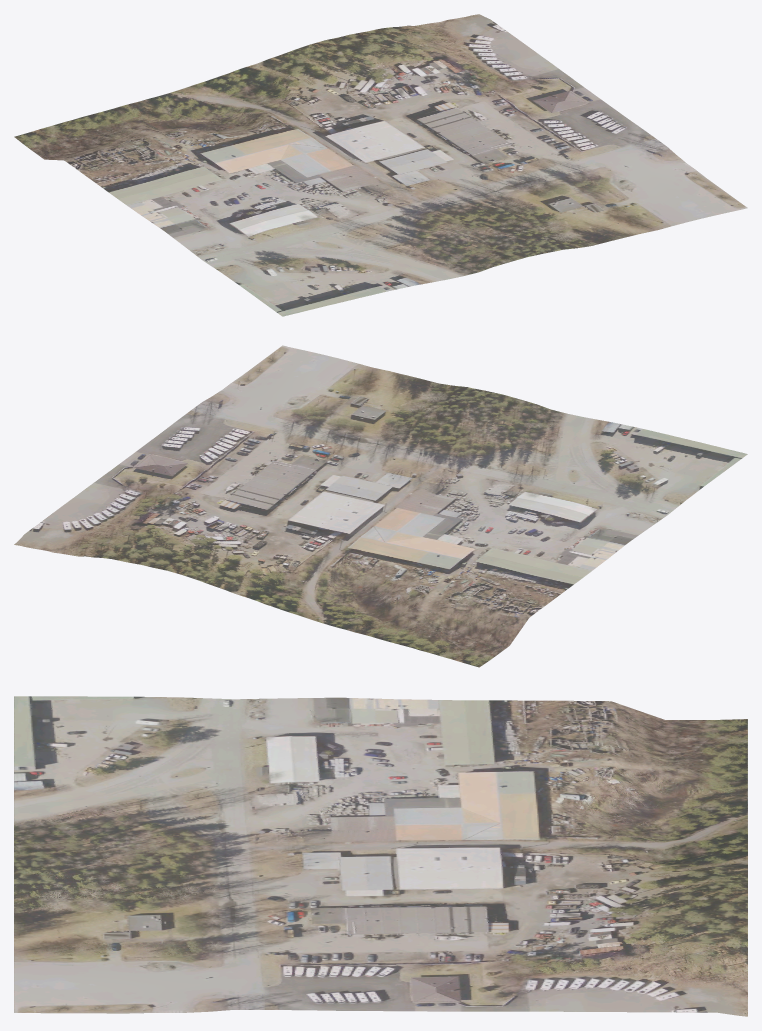
Rendered from CM_Terrain_24492916_6816722.fbx.
3 views of the same model, one above another, from view 1: azimuth 30°, elevation 25°; view 2: azimuth 150°, elevation 25°; view 3: azimuth 270°, elevation 25° (orthographic). The views are drawn at different scales.
Visible parts, largest first — view 1: CM_Terrain_24492916_6816722_LOD0; view 2: CM_Terrain_24492916_6816722_LOD0; view 3: CM_Terrain_24492916_6816722_LOD0.
Part boxes in pixels (x1,y1,x2,y2): CM_Terrain_24492916_6816722_LOD0: (14,14,747,316); CM_Terrain_24492916_6816722_LOD0: (14,345,747,667); CM_Terrain_24492916_6816722_LOD0: (14,696,747,1016).
Size of what is drawn, in the model's own units: 205 by 8.98 by 205.
